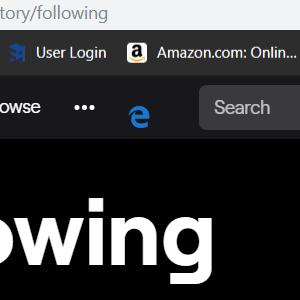edge: (127, 105, 150, 129)
